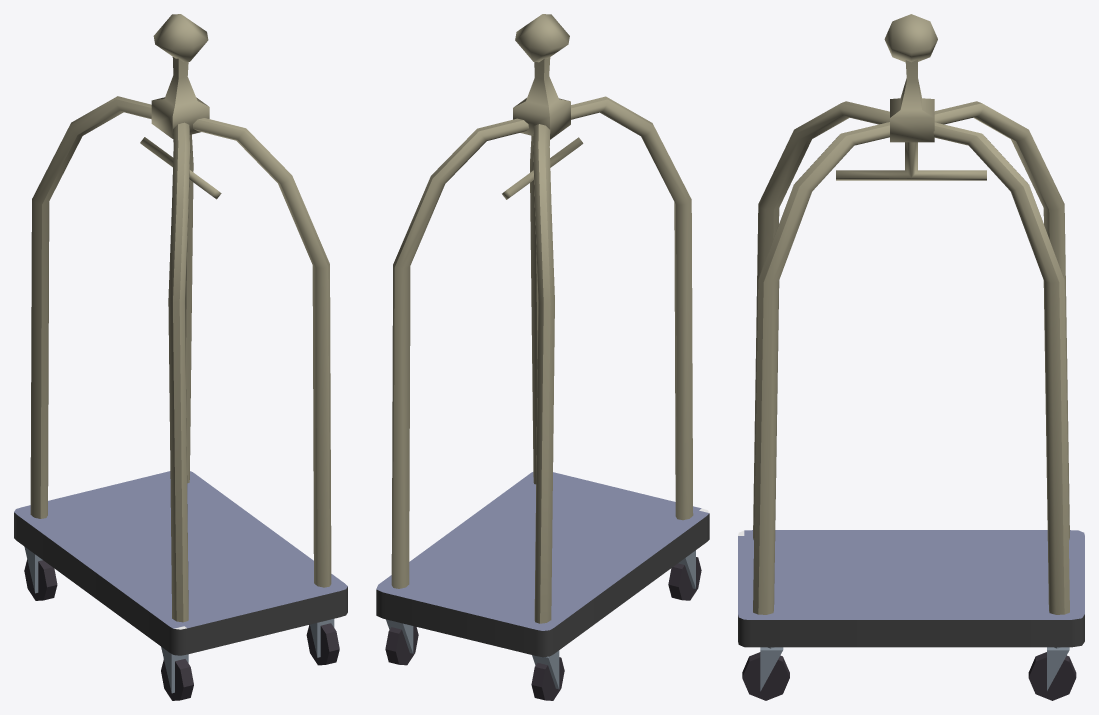
File: Luggage_Trolley.fbx
3 views of the same model, side by side, from view 1: azimuth 30°, elevation 25°; view 2: azimuth 150°, elevation 25°; view 3: azimuth 270°, elevation 25° (orthographic). The views are drawn at different scales.
Visible parts, largest first — view 1: Luggage_Trolley; view 2: Luggage_Trolley; view 3: Luggage_Trolley.
Part boxes in pixels (x1=…): Luggage_Trolley: x1=14, y1=14, x2=347, y2=700; Luggage_Trolley: x1=376, y1=14, x2=709, y2=700; Luggage_Trolley: x1=738, y1=14, x2=1084, y2=700.
Size of the model in its own units: 0.6548 by 2.2 by 1.07.
